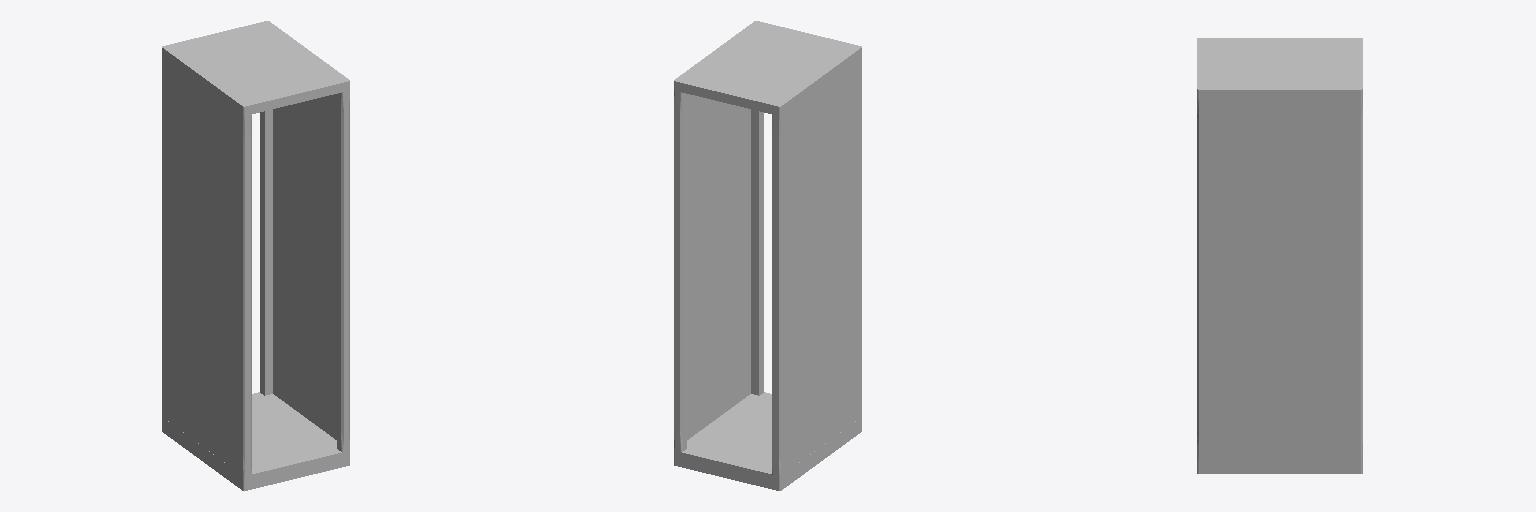
The model's file is jigui.obj.
The picture shows the model from 3 angles: view 1: azimuth 30°, elevation 25°; view 2: azimuth 150°, elevation 25°; view 3: azimuth 270°, elevation 25°; orthographic projection.
Parts seen in each view (by area): view 1: DX_1; view 2: DX_1; view 3: DX_1.
Boxes of the visible parts, x1,y1,x2,y2 form: DX_1: [162, 21, 349, 490]; DX_1: [674, 21, 861, 490]; DX_1: [1197, 38, 1362, 473].
Size of the model in its own units: 60 by 206 by 80.